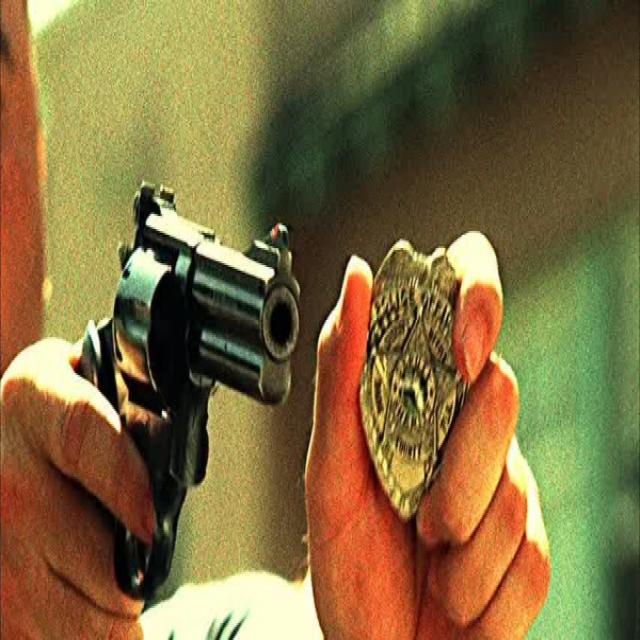weapons: (52, 156, 306, 606)
